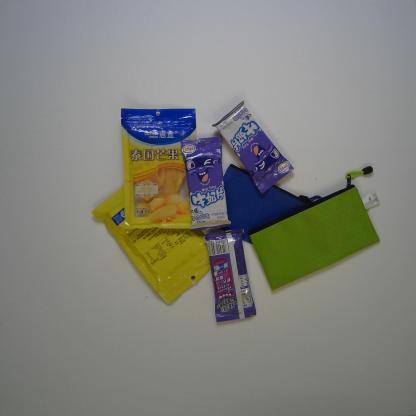Candy: (210, 99, 294, 195), (204, 226, 259, 326), (180, 135, 233, 235)
Dried Fruit: (89, 174, 235, 307), (119, 107, 203, 232)
Stationery: (247, 164, 384, 293), (214, 162, 338, 258)
